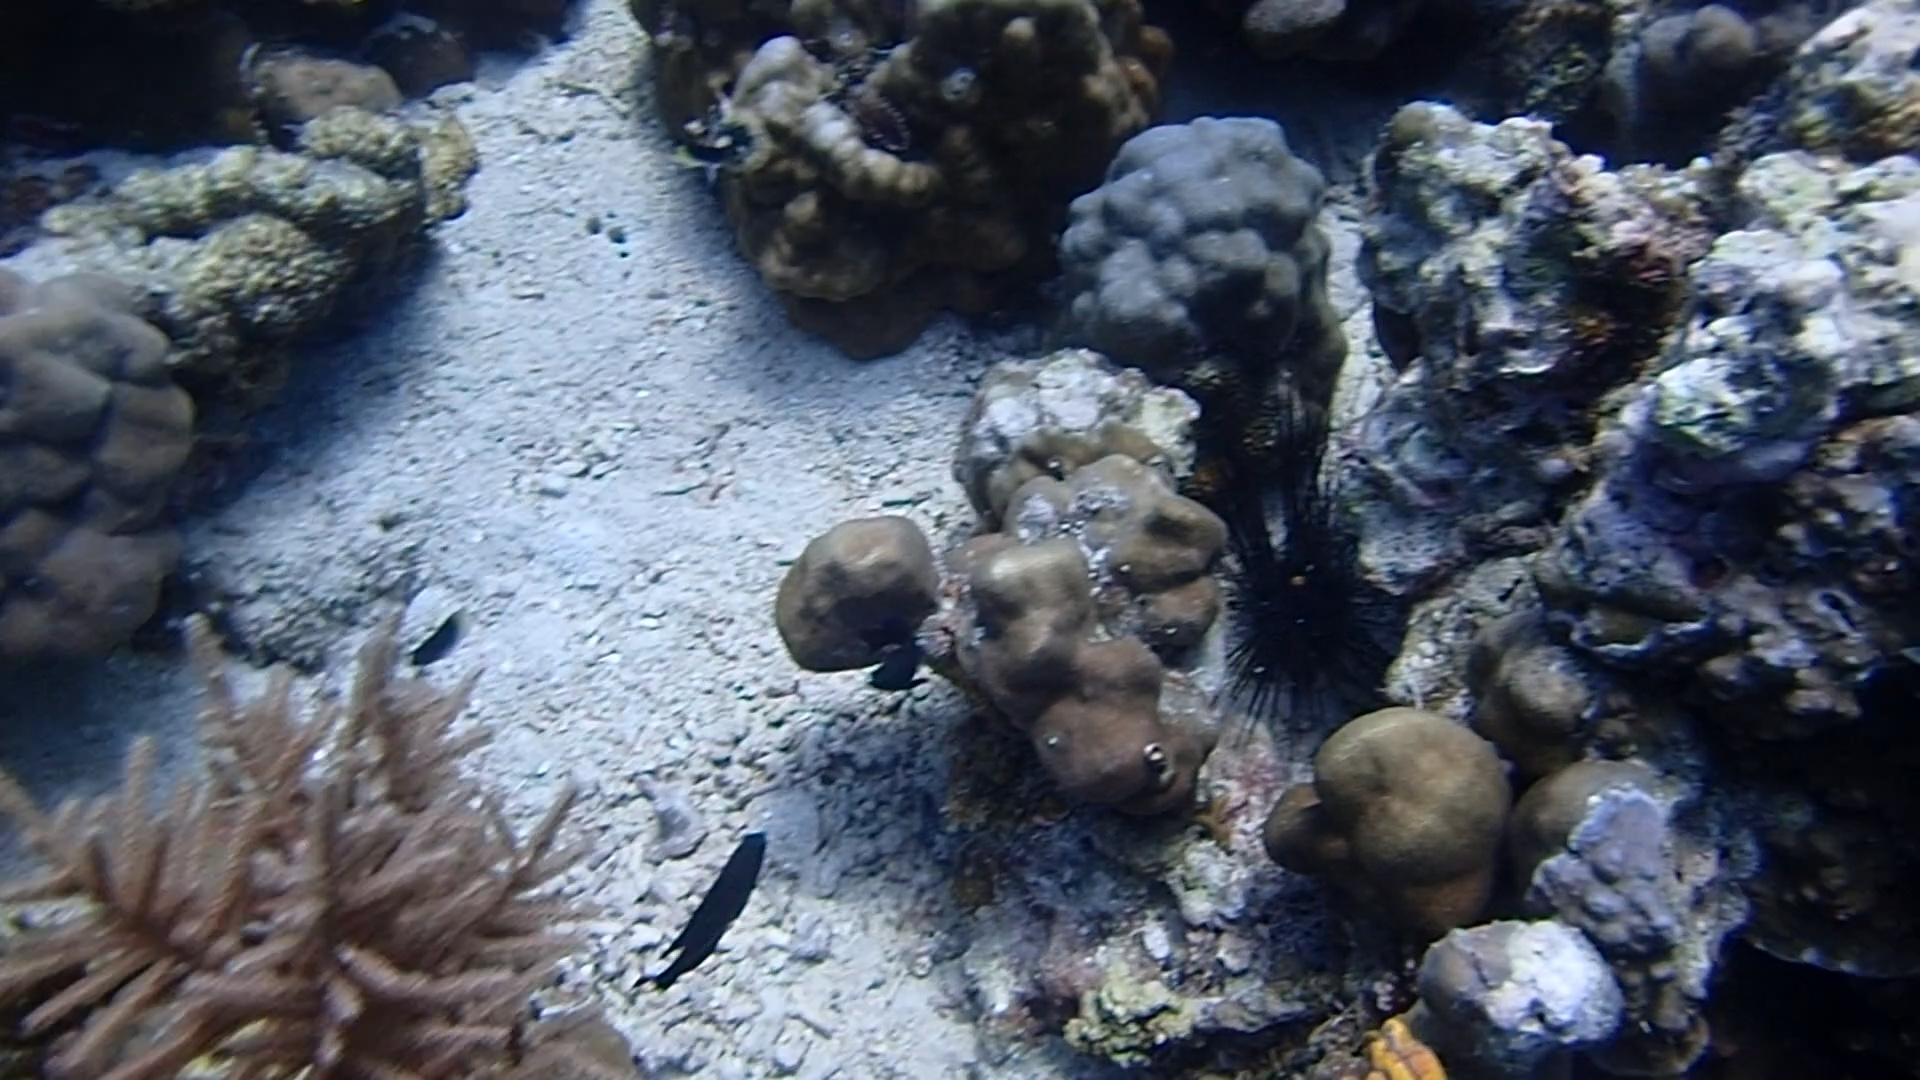Dark Fish: (634, 825, 786, 989), (856, 625, 940, 708)
Yellow Tail: (405, 600, 476, 678), (666, 131, 737, 185)
